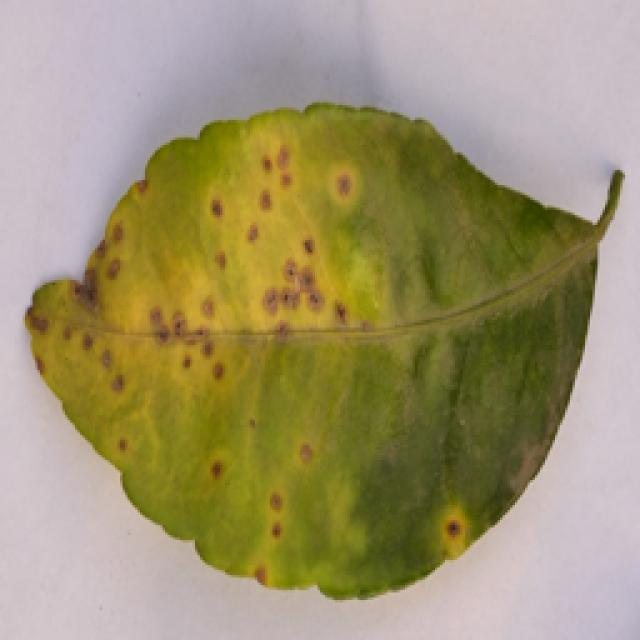canker: (31, 108, 600, 597)
